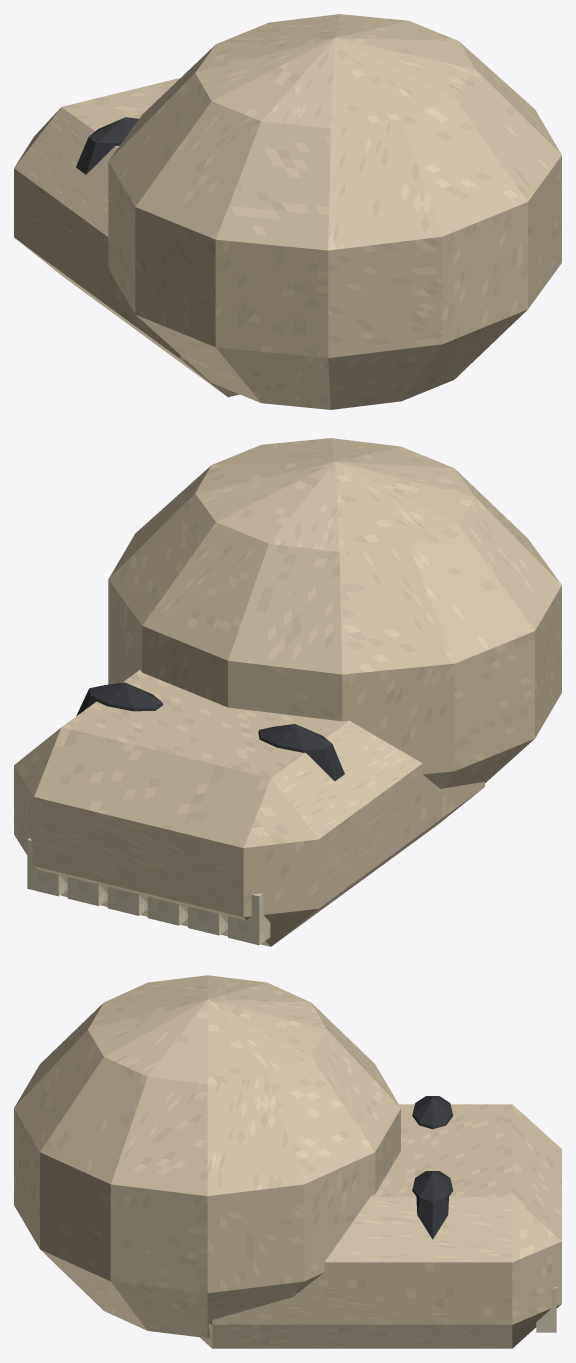
The model's file is skull_canis.glb.
3 views of the same model, one above another, from view 1: azimuth 30°, elevation 25°; view 2: azimuth 150°, elevation 25°; view 3: azimuth 270°, elevation 25° (orthographic). The views are drawn at different scales.
Visible parts, largest first — view 1: block_bone cranium, block_facial skeleton, block_recessed eye socket; view 2: block_bone cranium, block_facial skeleton, block_small exposed tooth (×6), block_recessed eye socket (×2); view 3: block_bone cranium, block_facial skeleton, block_recessed eye socket (×2), block_small exposed tooth.
Part boxes in pixels (x1,y1,x2,y2): block_bone cranium: (108, 14, 561, 409); block_facial skeleton: (14, 78, 239, 397); block_recessed eye socket: (76, 117, 138, 174); block_bone cranium: (108, 438, 561, 788); block_facial skeleton: (14, 670, 484, 946); block_small exposed tooth (×6): (27, 838, 270, 945); block_recessed eye socket (×2): (76, 682, 344, 781); block_bone cranium: (14, 975, 400, 1338); block_facial skeleton: (200, 1104, 561, 1348); block_recessed eye socket (×2): (412, 1096, 453, 1239); block_small exposed tooth: (536, 1286, 556, 1332).
Size of the model in its own units: 0.2204 by 0.1835 by 0.29.
1 material, 1 textured.
